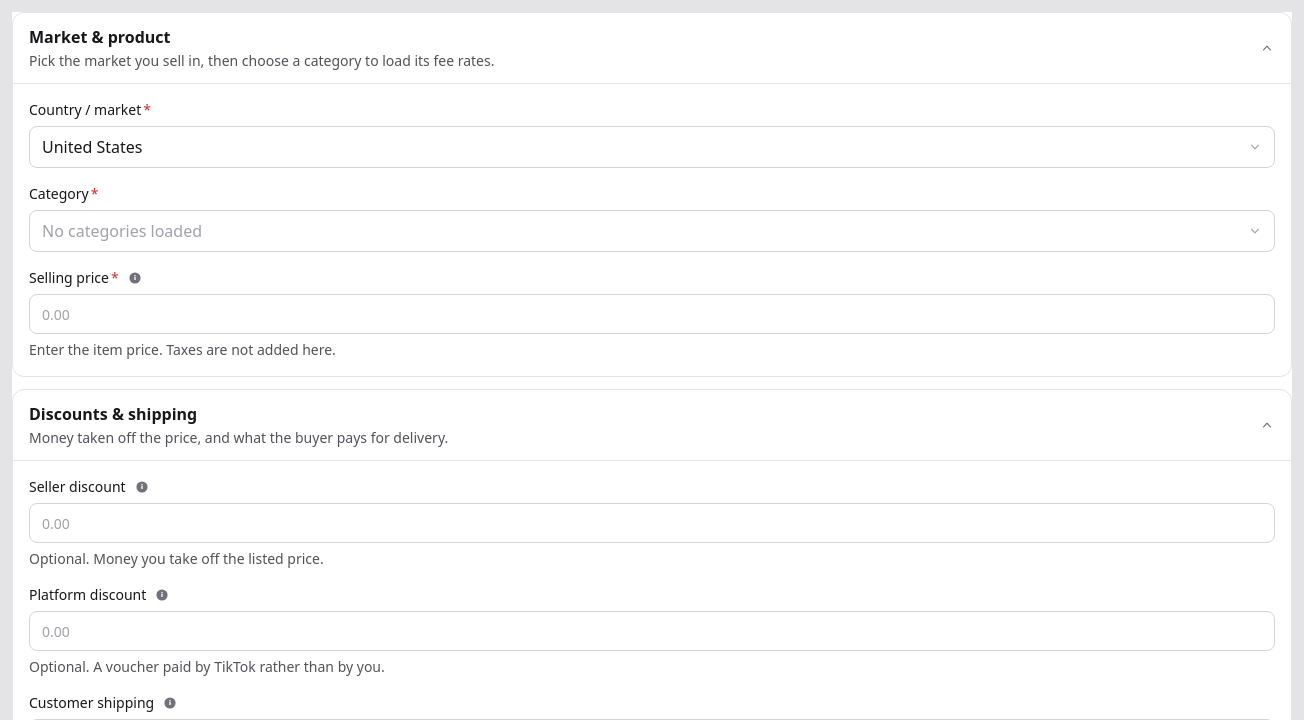
PH Seller tier control in the form › does not claim a tier the seller has not chosen
Focus the dropdown labelled "Country / market*" at (652, 147), box [29,126,1275,168]
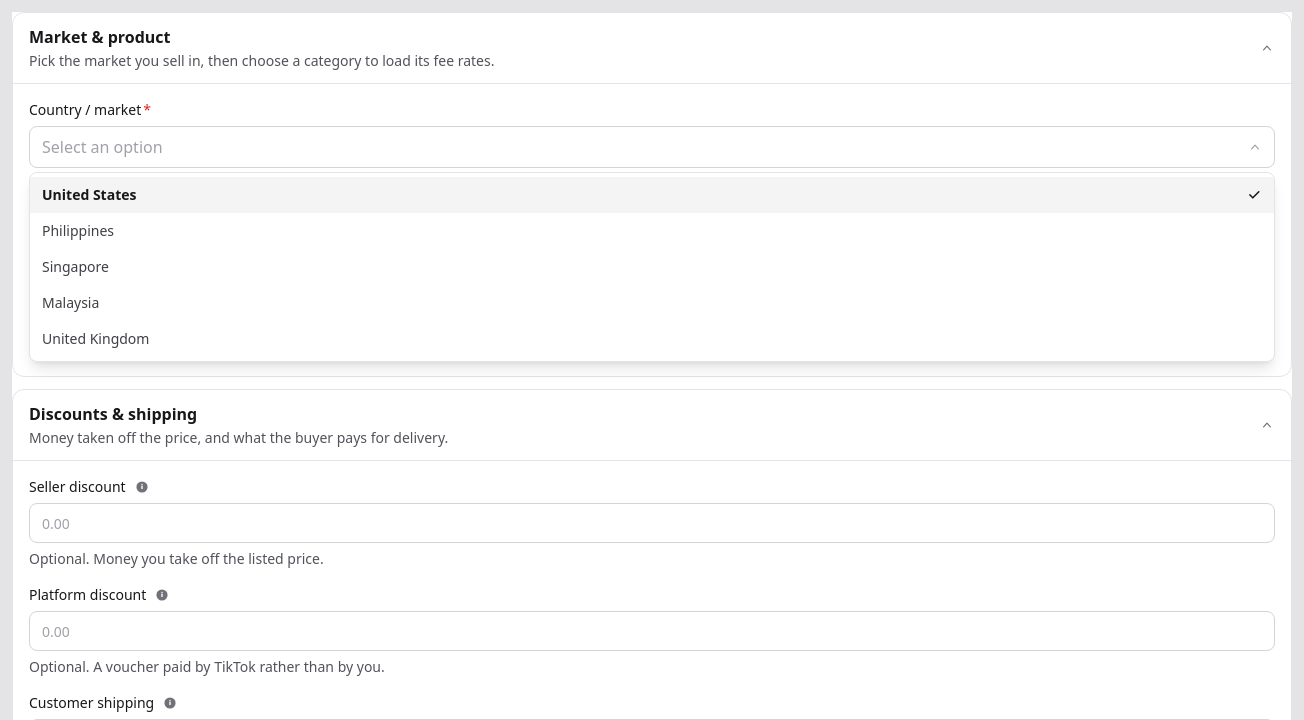
Press the mouse on the option "Philippines" at (78, 230), box [42,221,114,240]
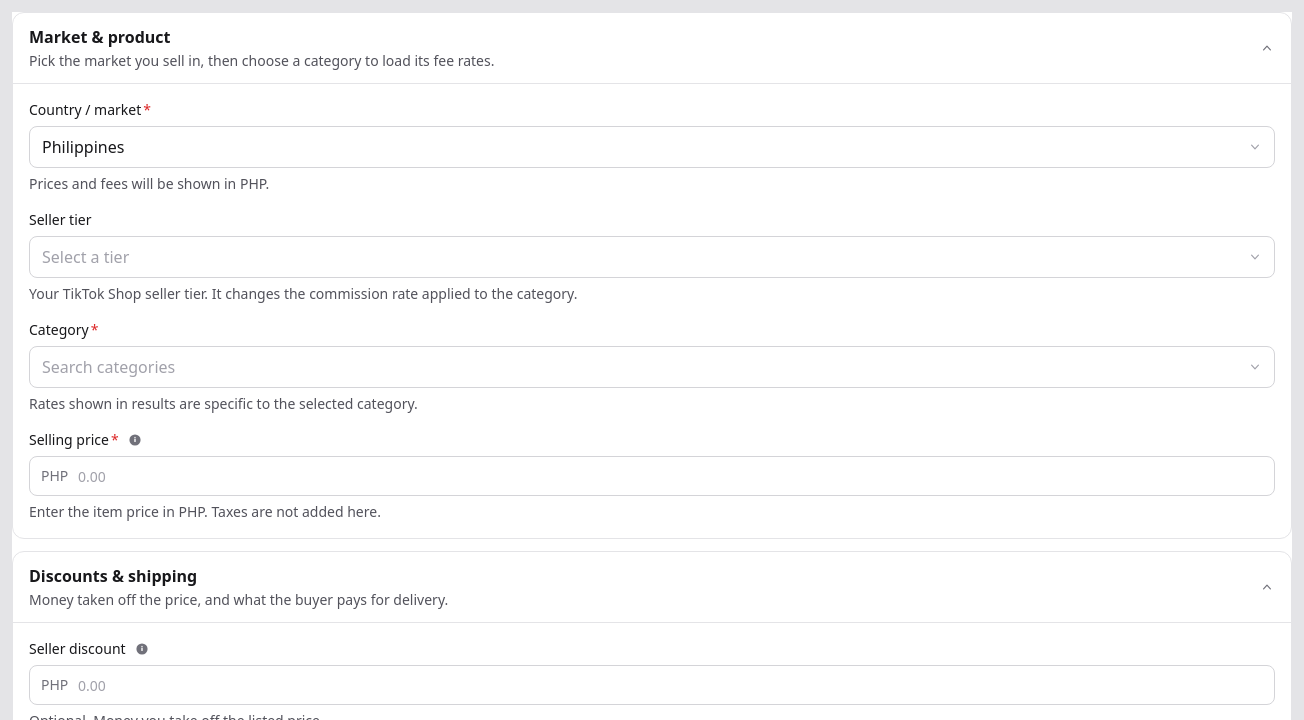
Focus the dropdown labelled "Category*" at (652, 367), box [29,346,1275,388]
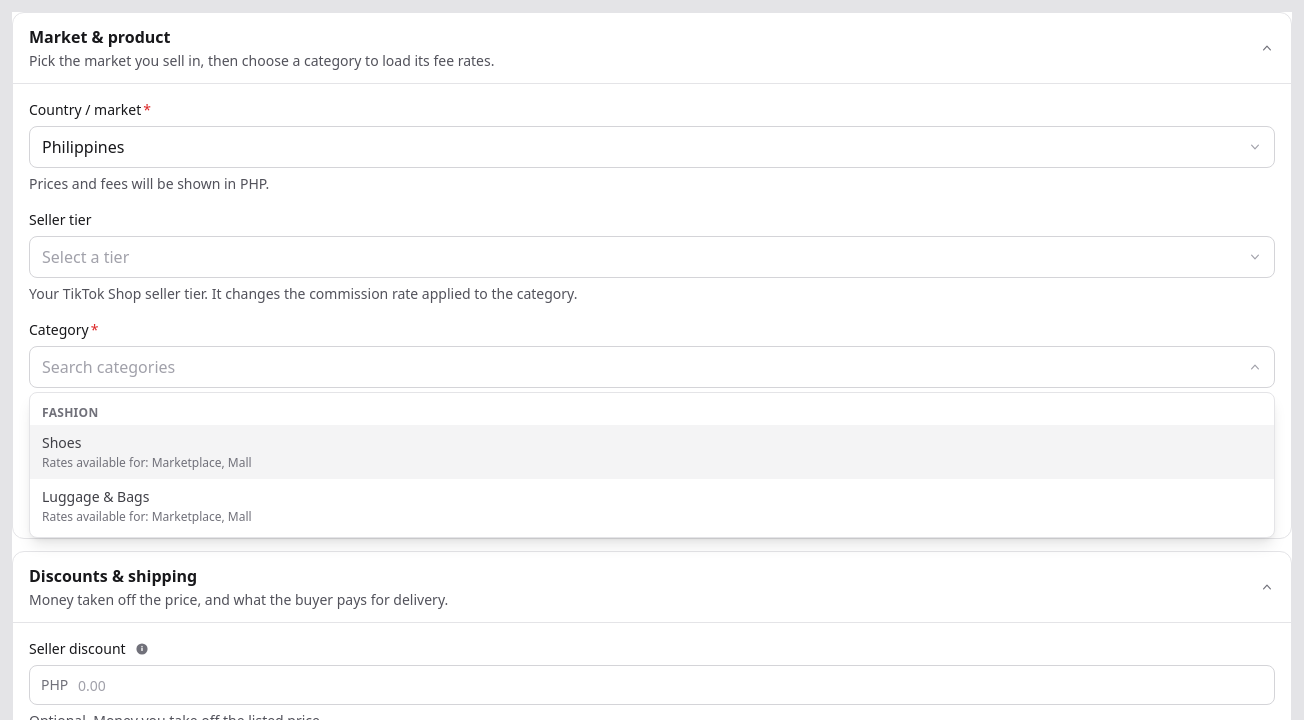
Press the mouse on the option "Shoes Rates available for: Marketplace, Mall" at (62, 442), box [30,425,1274,479]
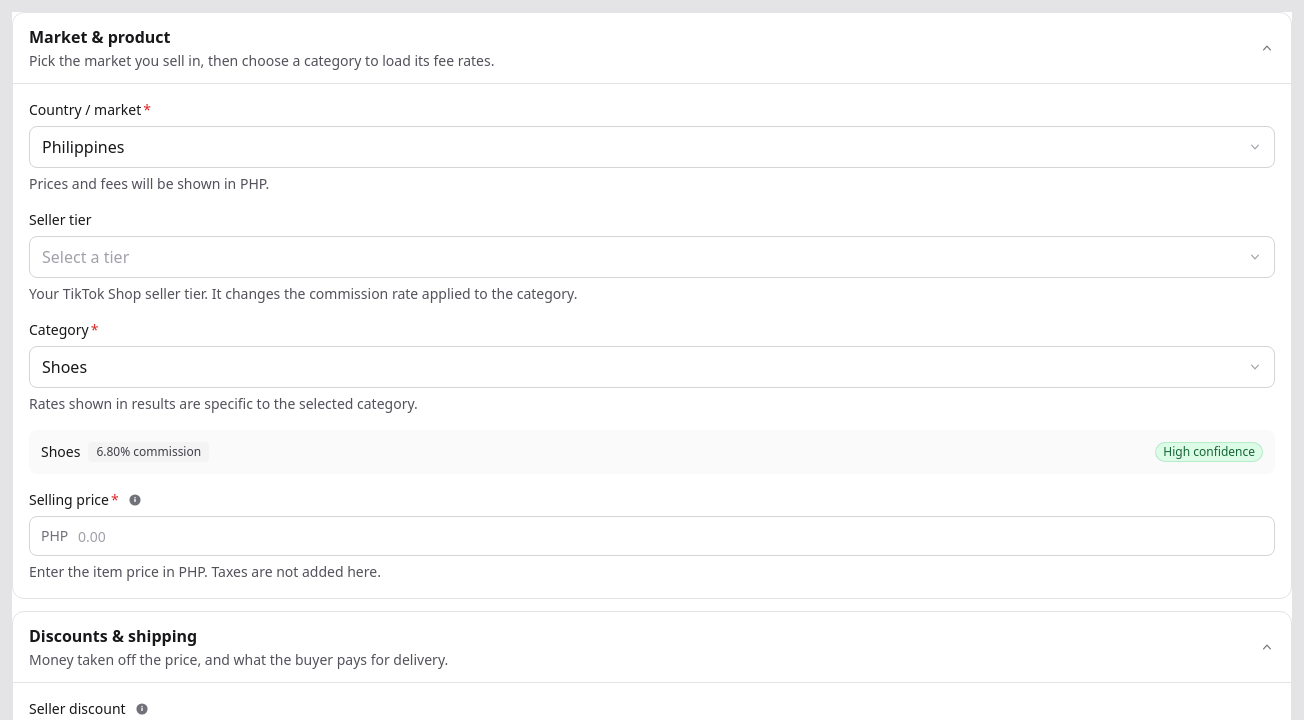
Result: the option "Marketplace" is gone
